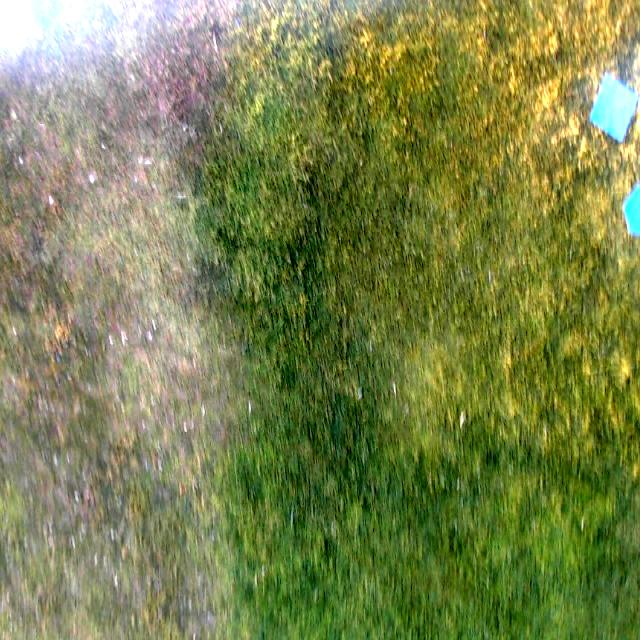blue_square: (589, 72, 639, 144)
